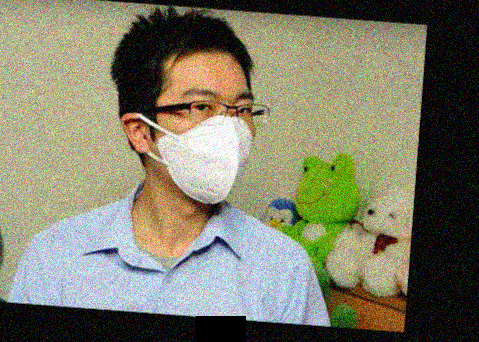with_mask: (153, 84, 255, 206)
